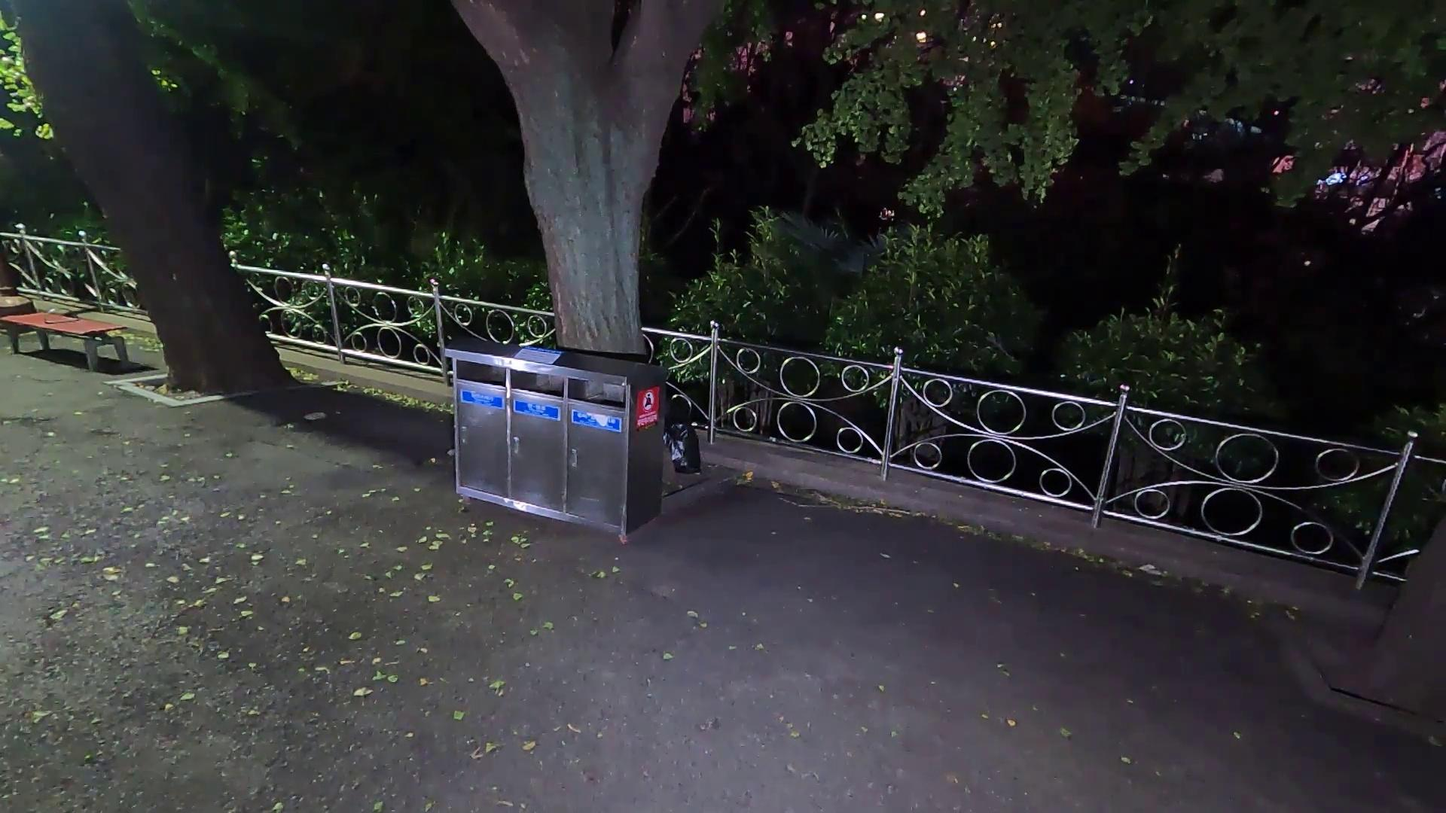trash: (664, 408, 704, 476)
